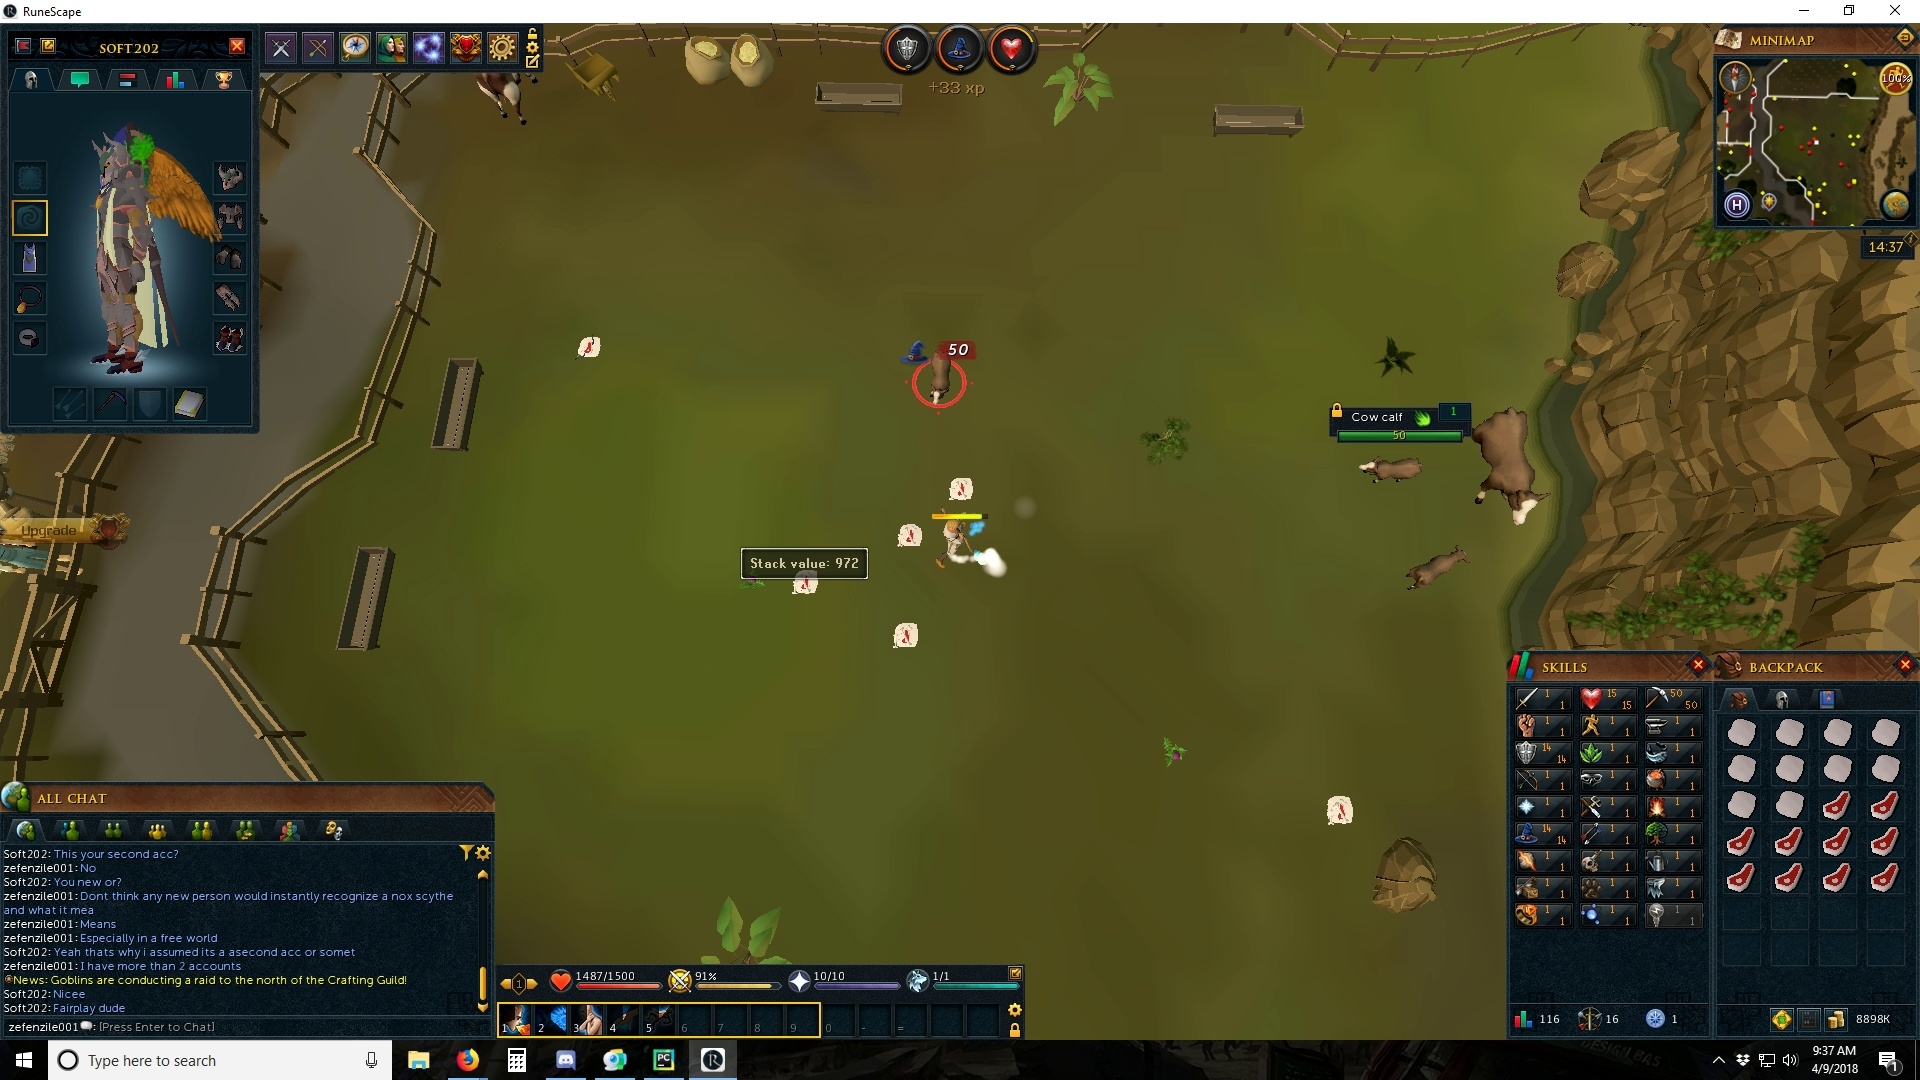calf: (1395, 549, 1469, 596), (920, 347, 957, 406), (1354, 459, 1425, 487), (926, 338, 953, 407)
cow: (1470, 406, 1552, 527)
cow_drop: (574, 328, 603, 364), (793, 568, 828, 597), (1327, 796, 1358, 827), (948, 465, 975, 500), (890, 618, 918, 650), (894, 524, 926, 549)
